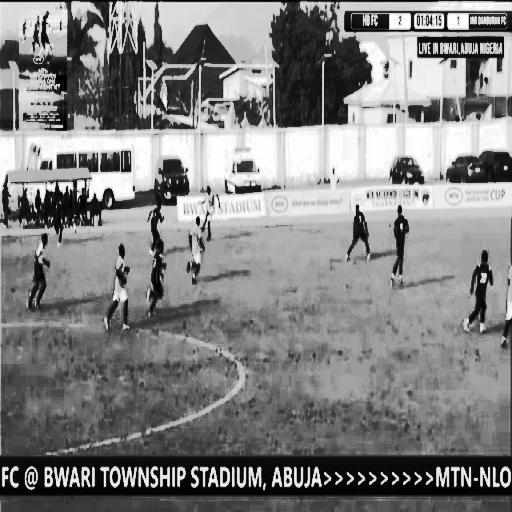ball: (209, 205, 216, 222)
referee: (32, 227, 48, 315)
team1: (110, 234, 132, 329), (501, 247, 512, 350), (200, 187, 219, 236), (192, 211, 204, 280)
team2: (470, 236, 496, 339), (395, 201, 411, 289), (146, 192, 165, 262), (350, 196, 371, 258), (150, 247, 166, 326)
